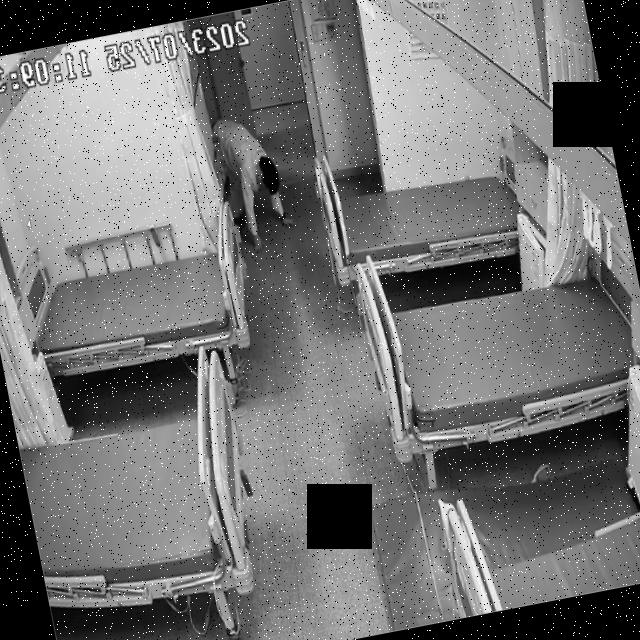bed: (7, 343, 270, 625), (361, 259, 640, 459), (9, 227, 261, 388), (322, 154, 526, 286)
fall: (211, 111, 300, 256)
patient: (210, 107, 302, 257)
